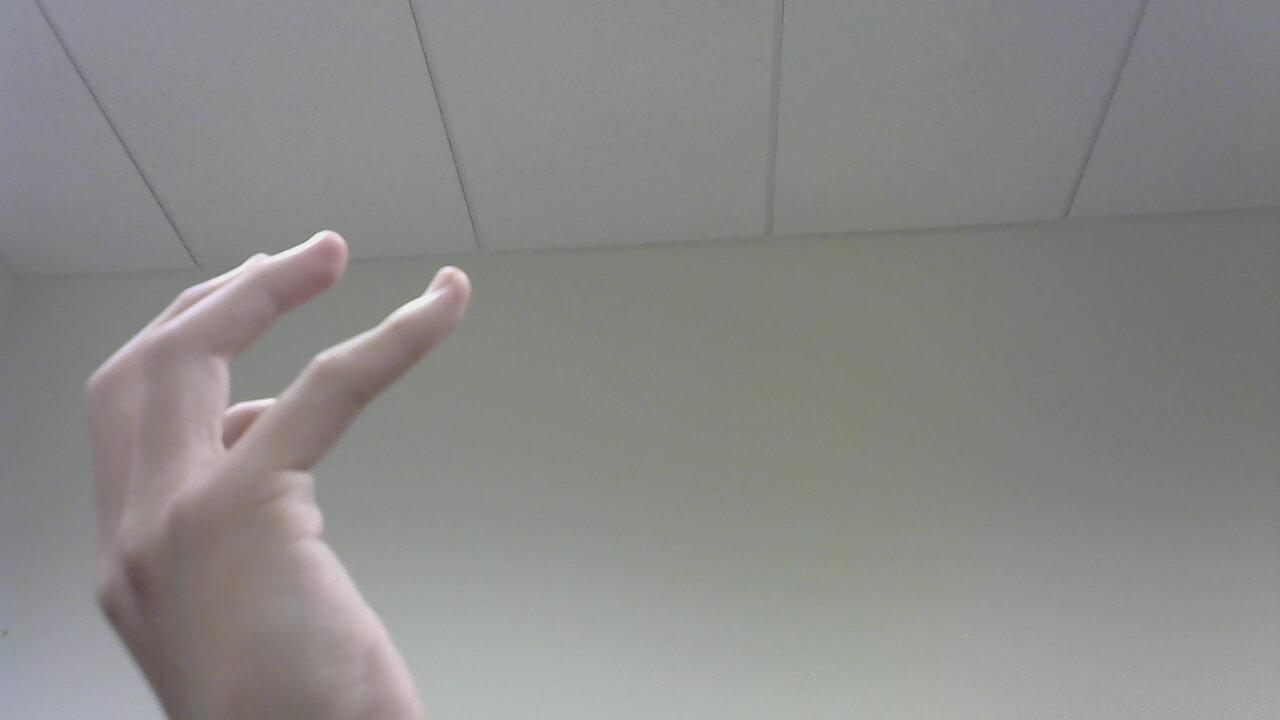hands: (70, 218, 477, 720)
